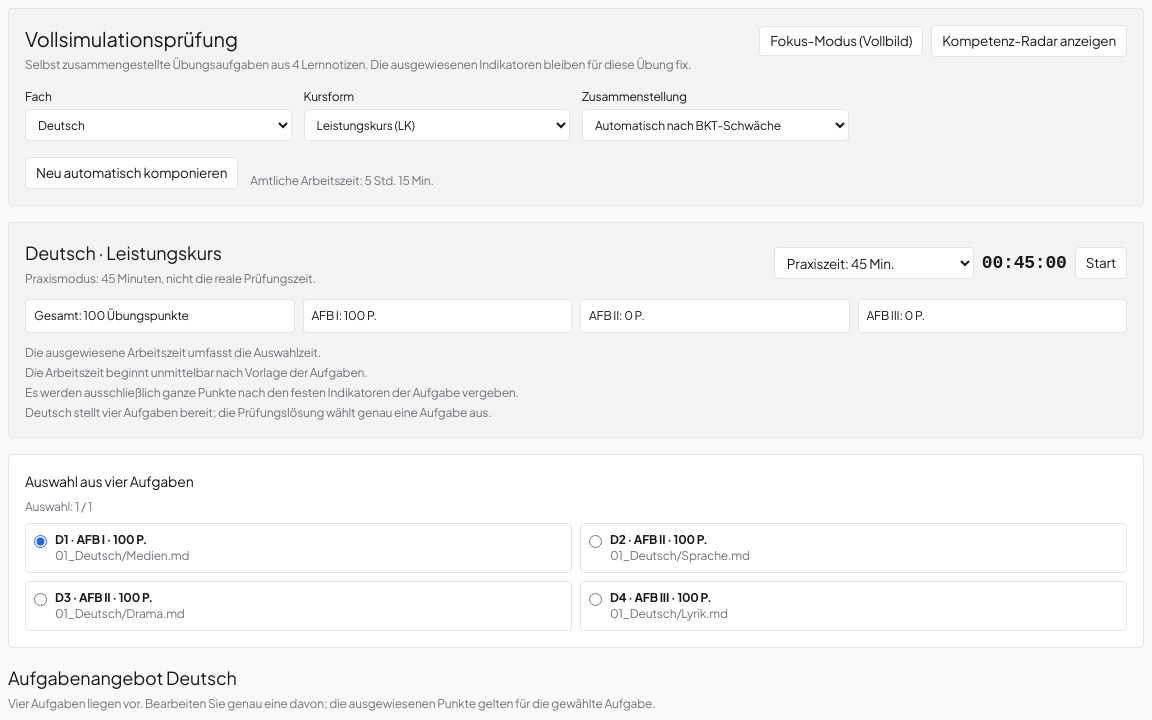
Test case: KlausurSim Vollsimulation › switches from labeled practice time to the official Deutsch LK duration
The width and height of the screenshot is (1152, 720).
Select "Prüfungszeit: 5 Std. 15 Min." in the dropdown named "Zeitmodus": x=874, y=263 x1=774 y1=247 x2=974 y2=279
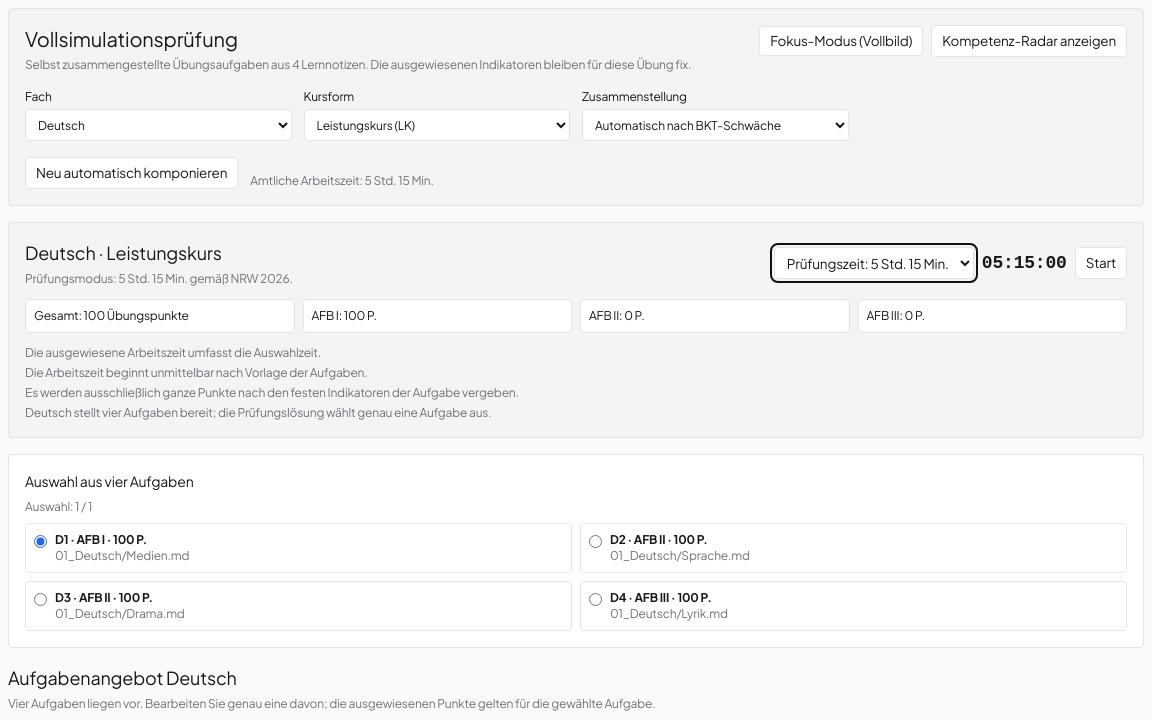
expect the text "05:15:00" is shown: met, box x1=982 y1=249 x2=1067 y2=277
expect the text "Prüfungsmodus: 5 Std. 15 Min. gemäß NRW 2026." is shown: met, box x1=25 y1=271 x2=293 y2=287
